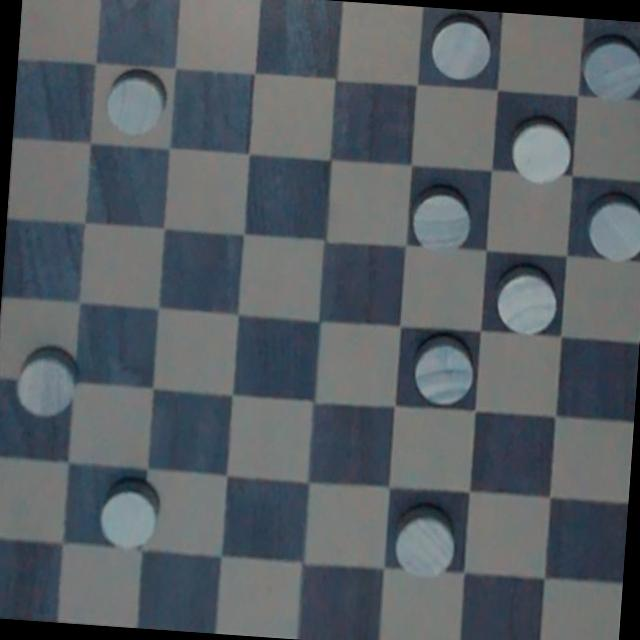BOARD: (0, 0, 640, 640)
white: (390, 496, 466, 585), (100, 59, 173, 144), (98, 469, 166, 557), (492, 257, 562, 342), (408, 328, 480, 410), (12, 342, 80, 423), (408, 182, 476, 260), (428, 20, 498, 92), (581, 190, 640, 271), (579, 29, 640, 106), (512, 117, 574, 188)
